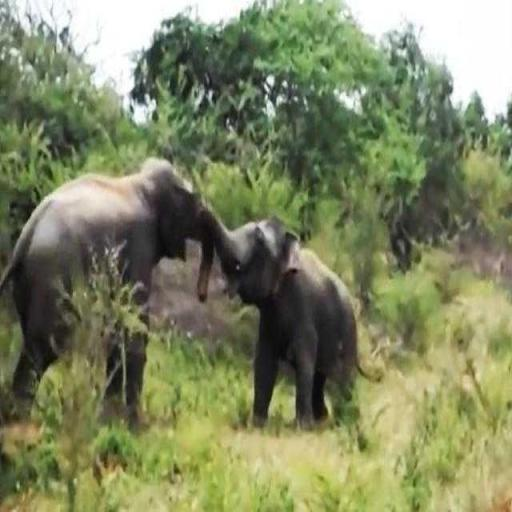Elephant: (0, 154, 217, 428), (210, 214, 379, 432)
